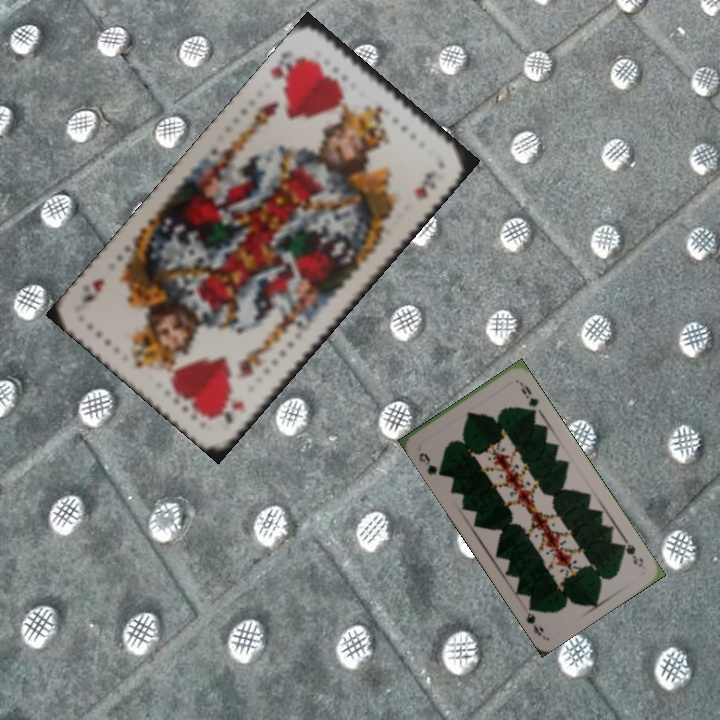G9: (617, 534, 646, 570), (414, 448, 445, 479)
HK: (211, 397, 248, 434), (265, 59, 292, 92)
